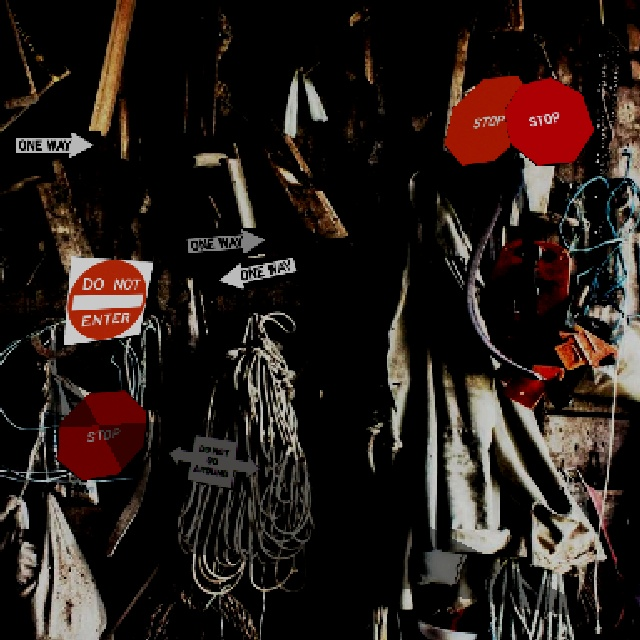DO_NOT_ENTER: (61, 254, 153, 345)
DO_NOT_GO_AROUND: (167, 433, 259, 488)
ONE_WAY_ left: (211, 249, 303, 296)
ONE_WAY_ right: (179, 224, 271, 259), (8, 129, 100, 158)
STOP: (442, 73, 533, 165), (55, 388, 146, 480), (502, 75, 594, 165)
